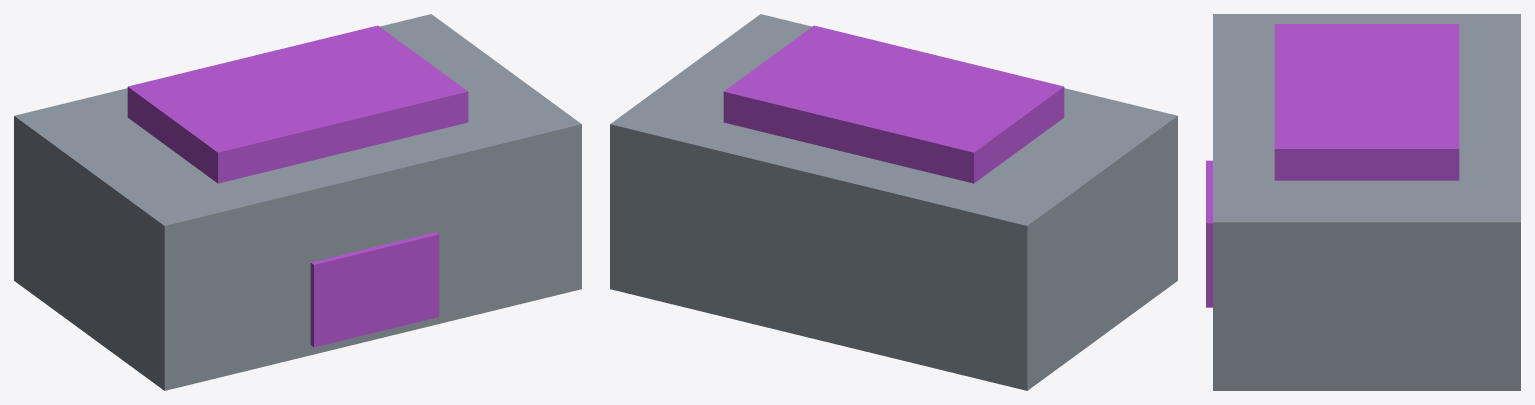
Rendered from CH_EraEngine_LOD0.glb.
3 views of the same model, side by side, from view 1: azimuth 30°, elevation 25°; view 2: azimuth 150°, elevation 25°; view 3: azimuth 270°, elevation 25° (orthographic). The views are drawn at different scales.
Visible parts, largest first — view 1: EntranceGate; view 2: EntranceGate; view 3: EntranceGate.
Part boxes in pixels (left/top/right/bottom): EntranceGate: left=14, top=14, right=581, bottom=390; EntranceGate: left=610, top=14, right=1177, bottom=390; EntranceGate: left=1206, top=14, right=1520, bottom=390.
Size of the model in its own units: 720 by 323 by 460.
